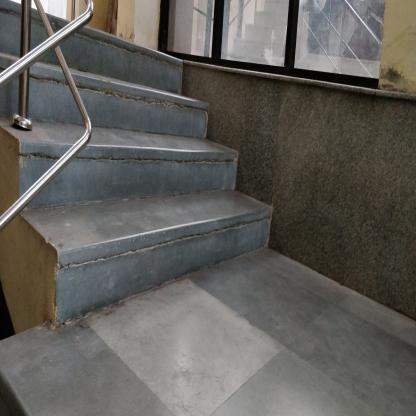stairs: (92, 139, 242, 313)
